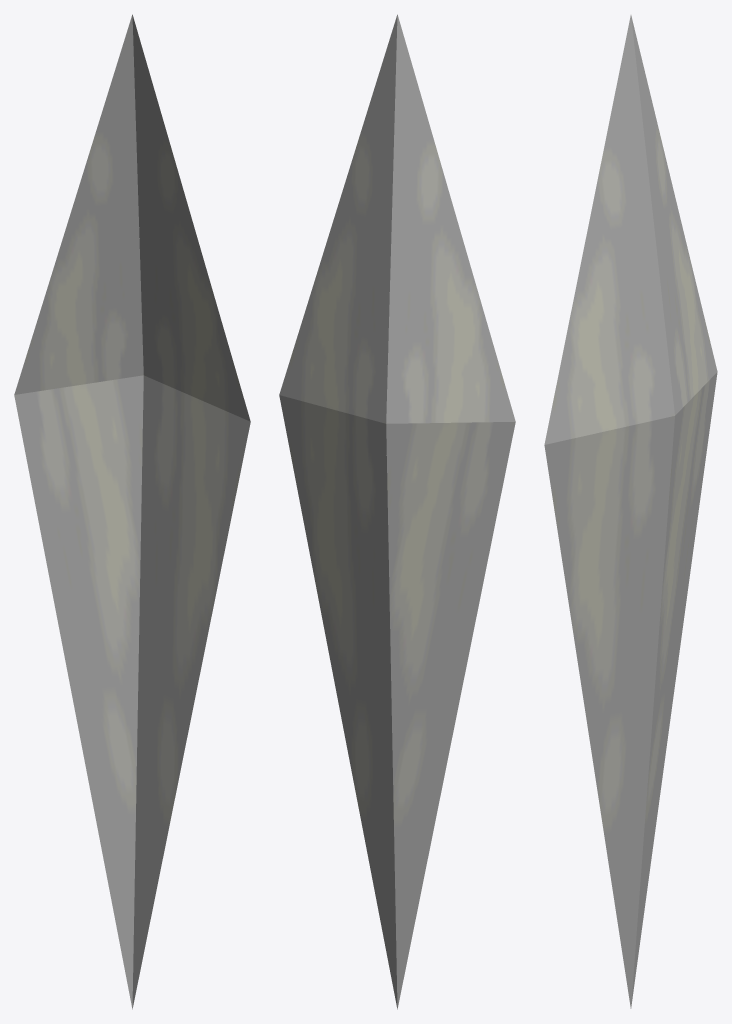
The model's file is Eckverschluß [GrauerStein]_2378.glb.
3 views of the same model, side by side, from view 1: azimuth 30°, elevation 25°; view 2: azimuth 210°, elevation 25°; view 3: azimuth 270°, elevation 25° (orthographic).
Parts seen in each view (by area): view 1: pPlaneShape11, pPlaneShape10, pPlaneShape8, pPlaneShape9; view 2: pPlaneShape11, pPlaneShape10, pPlaneShape8, pPlaneShape9; view 3: pPlaneShape10, pPlaneShape9, pPlaneShape11, pPlaneShape8.
Boxes of the visible parts, x1=… form: pPlaneShape11: x1=14, y1=375, x2=143, y2=1009; pPlaneShape10: x1=132, y1=375, x2=250, y2=1007; pPlaneShape8: x1=14, y1=14, x2=143, y2=394; pPlaneShape9: x1=132, y1=15, x2=250, y2=421; pPlaneShape11: x1=386, y1=421, x2=515, y2=1009; pPlaneShape10: x1=279, y1=395, x2=397, y2=1007; pPlaneShape8: x1=386, y1=14, x2=515, y2=423; pPlaneShape9: x1=279, y1=15, x2=397, y2=423; pPlaneShape10: x1=544, y1=416, x2=674, y2=1008; pPlaneShape9: x1=544, y1=15, x2=674, y2=444; pPlaneShape11: x1=631, y1=372, x2=717, y2=1008; pPlaneShape8: x1=631, y1=15, x2=717, y2=415.
Bounding box in the file's own units: 0.0549 × 0.3486 × 0.0549.
Materials: 4 (4 with a texture image).
